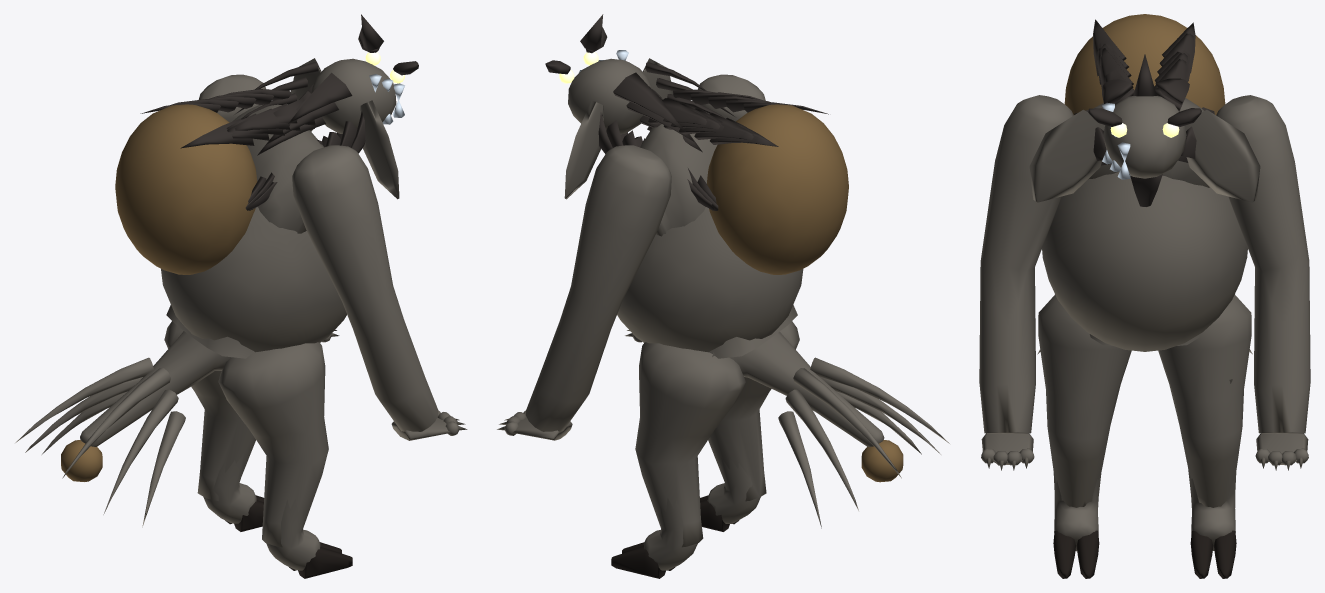
The model's file is gryla.glb.
The picture shows the model from 3 angles, left to right: view 1: azimuth 30°, elevation 25°; view 2: azimuth 150°, elevation 25°; view 3: azimuth 270°, elevation 25°; orthographic projection. The views are drawn at different scales.
Visible parts, largest first — view 1: gryla.001; view 2: gryla.001; view 3: gryla.001.
Boxes of the visible parts, x1,y1,x2,y2 form: gryla.001: (15, 14, 467, 578); gryla.001: (497, 14, 949, 578); gryla.001: (979, 14, 1310, 578).
Bounding box in the file's own units: 1.89 × 2.56 × 1.4.
